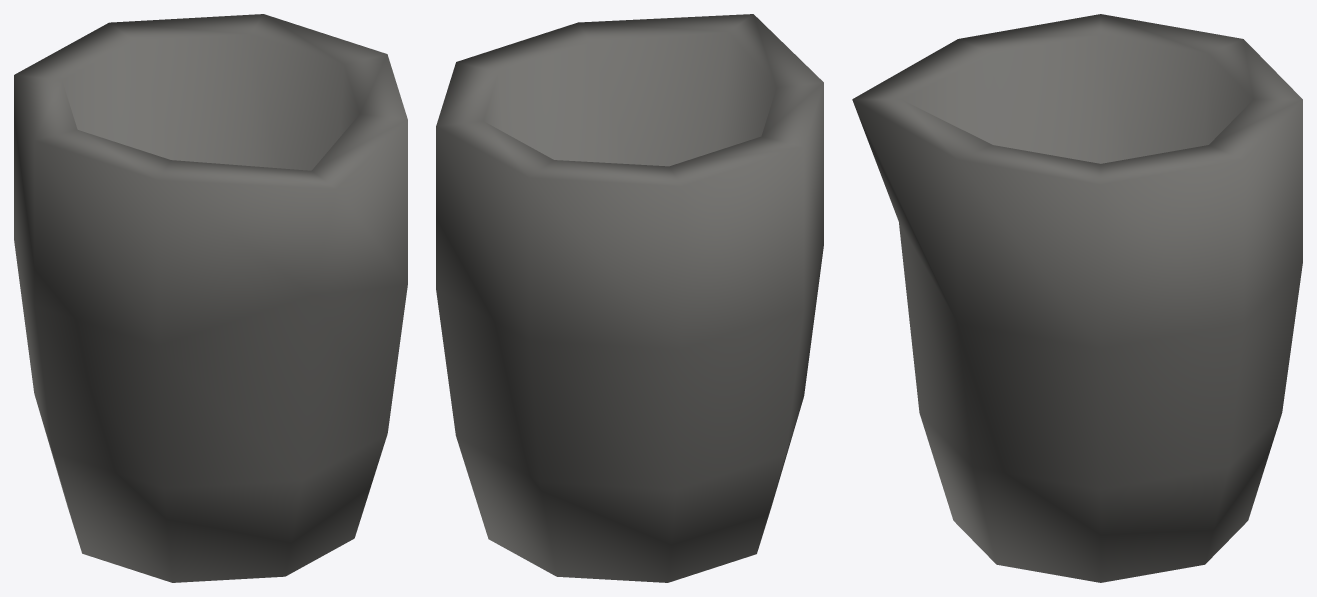
Rendered from rpgpp_ag_blacksmith_pot_01a.fbx.
3 views of the same model, side by side, from view 1: azimuth 30°, elevation 25°; view 2: azimuth 150°, elevation 25°; view 3: azimuth 270°, elevation 25° (orthographic).
Visible parts, largest first — view 1: rpgpp_ag_blacksmith_pot_01a; view 2: rpgpp_ag_blacksmith_pot_01a; view 3: rpgpp_ag_blacksmith_pot_01a.
Part boxes in pixels (x1,y1,x2,y2): rpgpp_ag_blacksmith_pot_01a: (14, 14, 407, 582); rpgpp_ag_blacksmith_pot_01a: (436, 14, 823, 582); rpgpp_ag_blacksmith_pot_01a: (852, 14, 1302, 582).
Size of the model in its own units: 0.2643 by 0.3041 by 0.2949.
